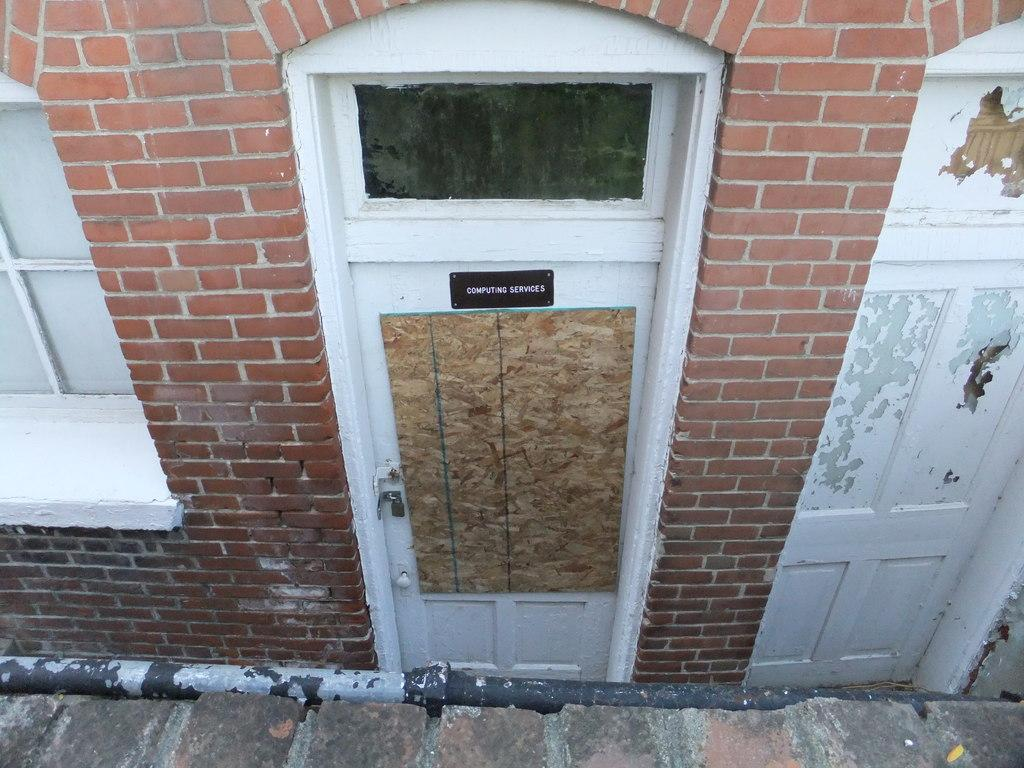handle: (376, 484, 406, 524)
